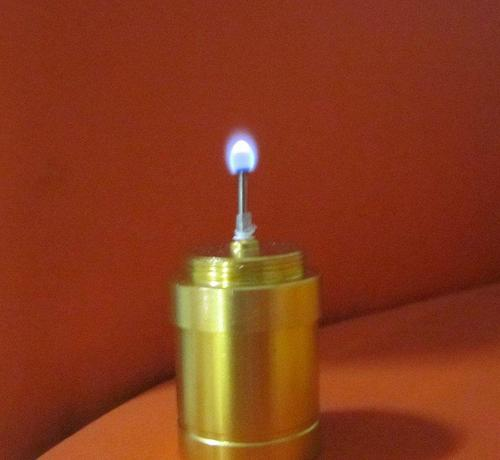fire: (214, 130, 270, 186)
